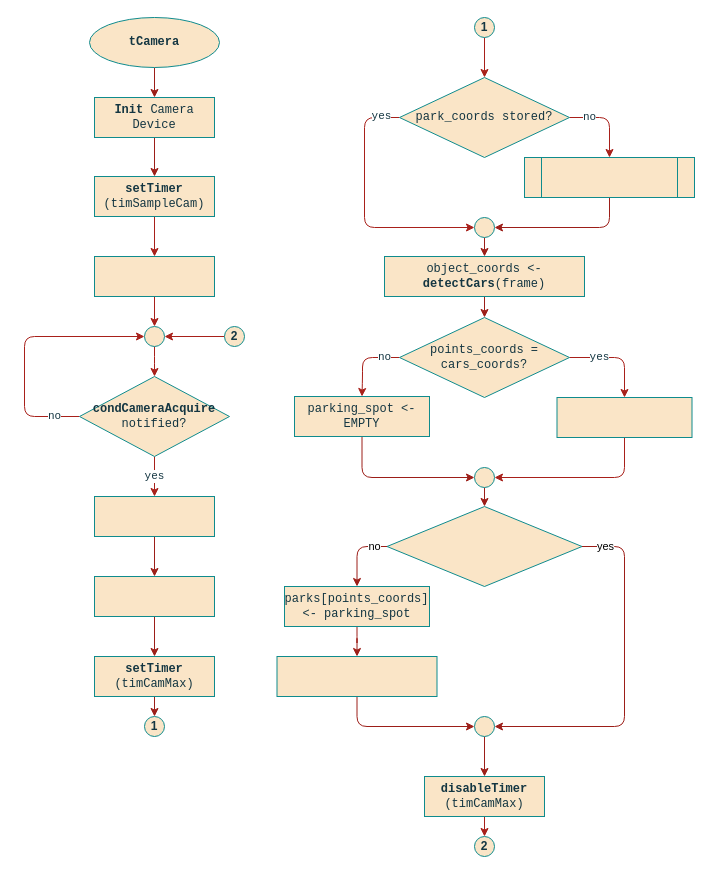
The diagram is 712 pixels wide and 874 high, and some of its shapes have lost their labels. The centre of each missing label's shape, as x and y in pixels:
"frame <- captureFrame" belongs at point (154, 516).
"lock mutCamera" belongs at point (154, 276).
"park[points_coords]= parking_spot?" belongs at point (484, 546).
"parking_spot <- OCCUPIED" belongs at point (624, 417).
"searchParkingSpots" belongs at point (609, 177).
"send message (parks[points_coords])" belongs at point (356, 676).
"Unlock mutCamera" belongs at point (154, 596).
